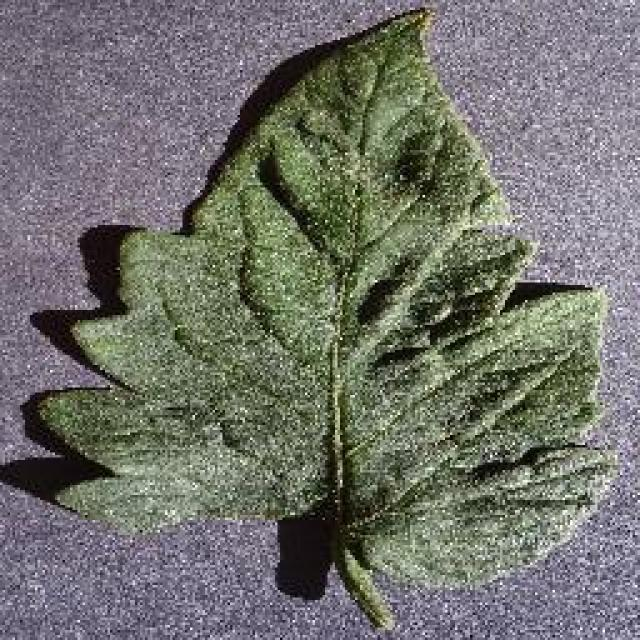Tomato healthy leaf: (56, 2, 606, 610)
